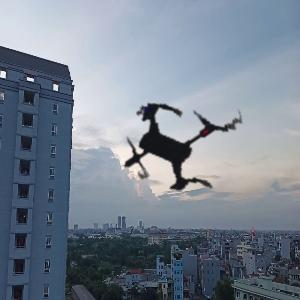drone: (61, 43, 280, 262)
